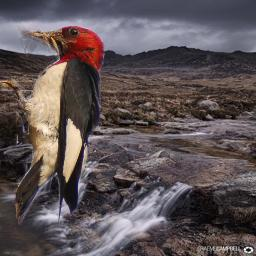Woodpecker: (0, 25, 105, 225)
